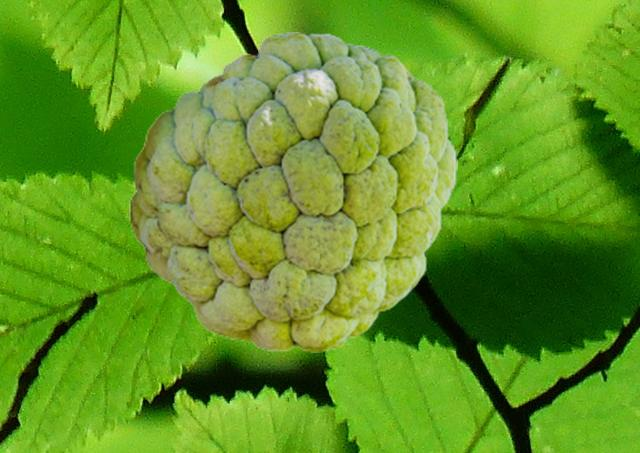atis: (129, 32, 456, 351)
